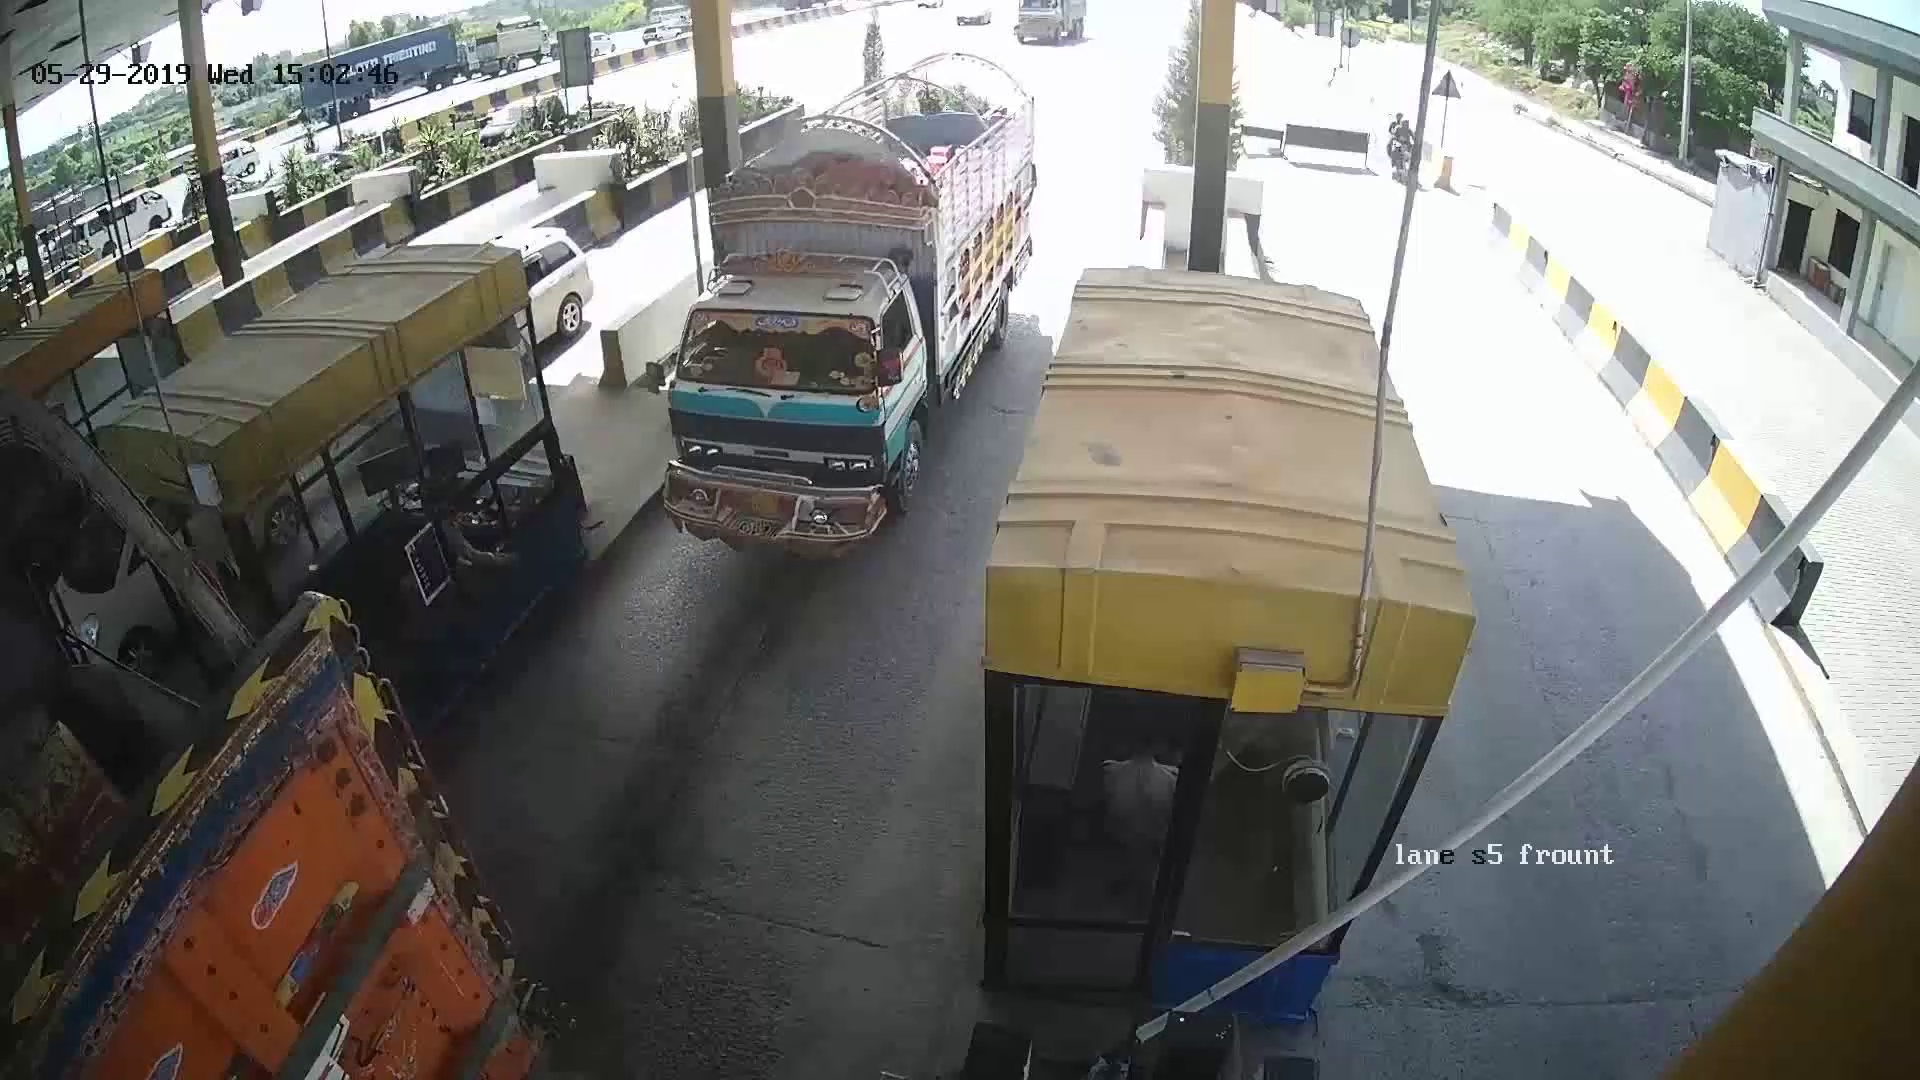truck: (674, 119, 1048, 558)
